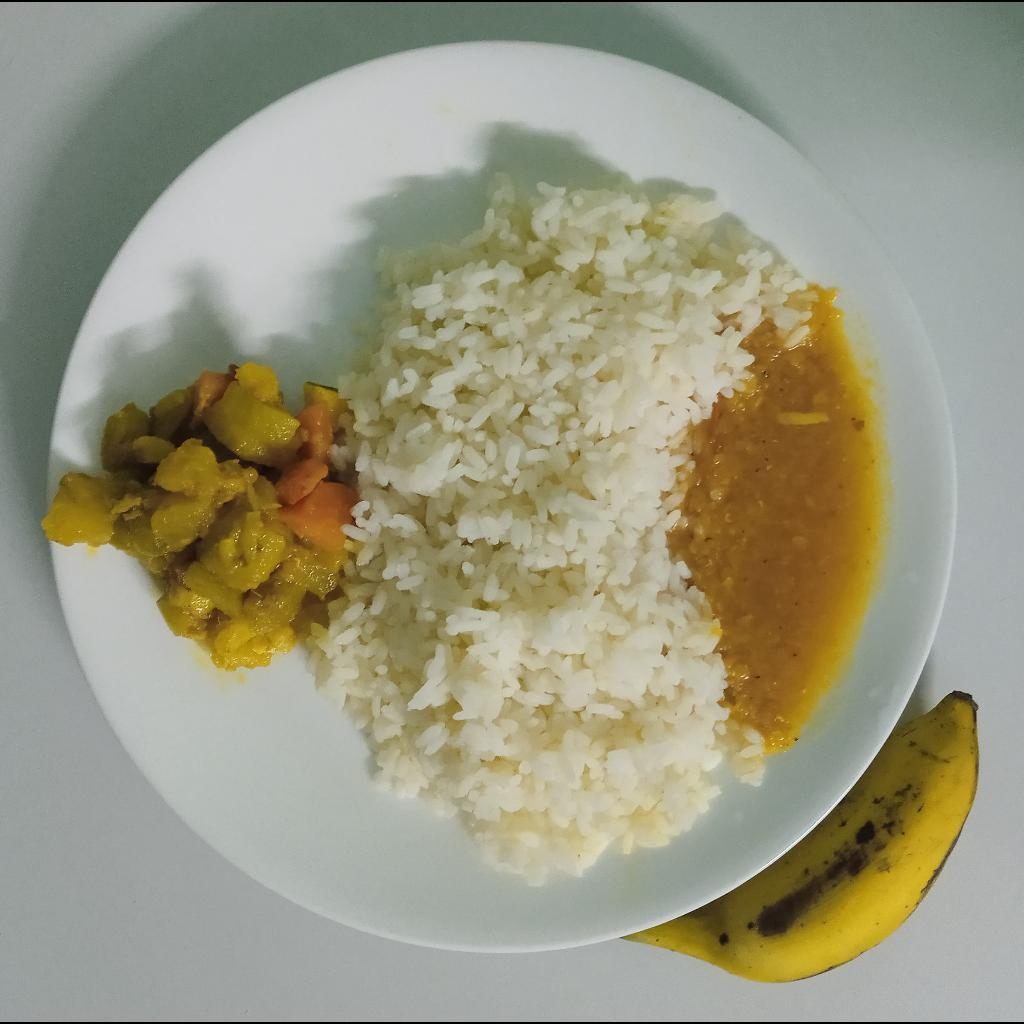banana: (620, 691, 981, 983)
daal: (683, 289, 881, 755)
rice: (303, 168, 817, 886)
vegetable: (43, 361, 353, 672)
